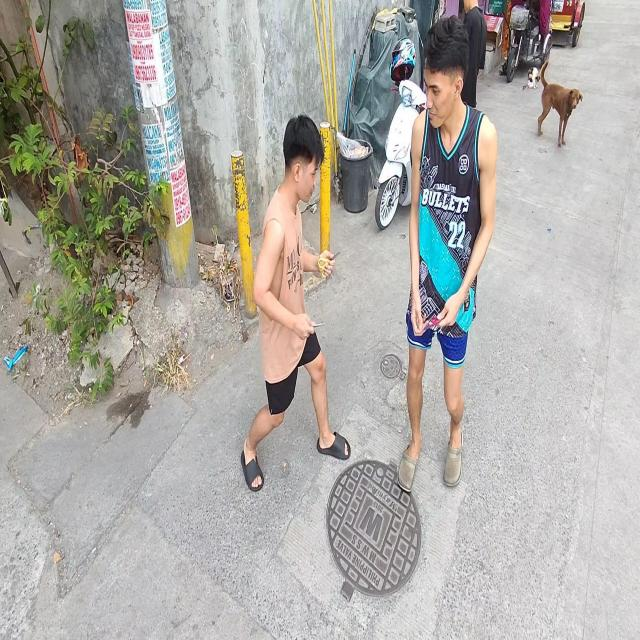scissor: (318, 252, 341, 278), (422, 317, 441, 334)
